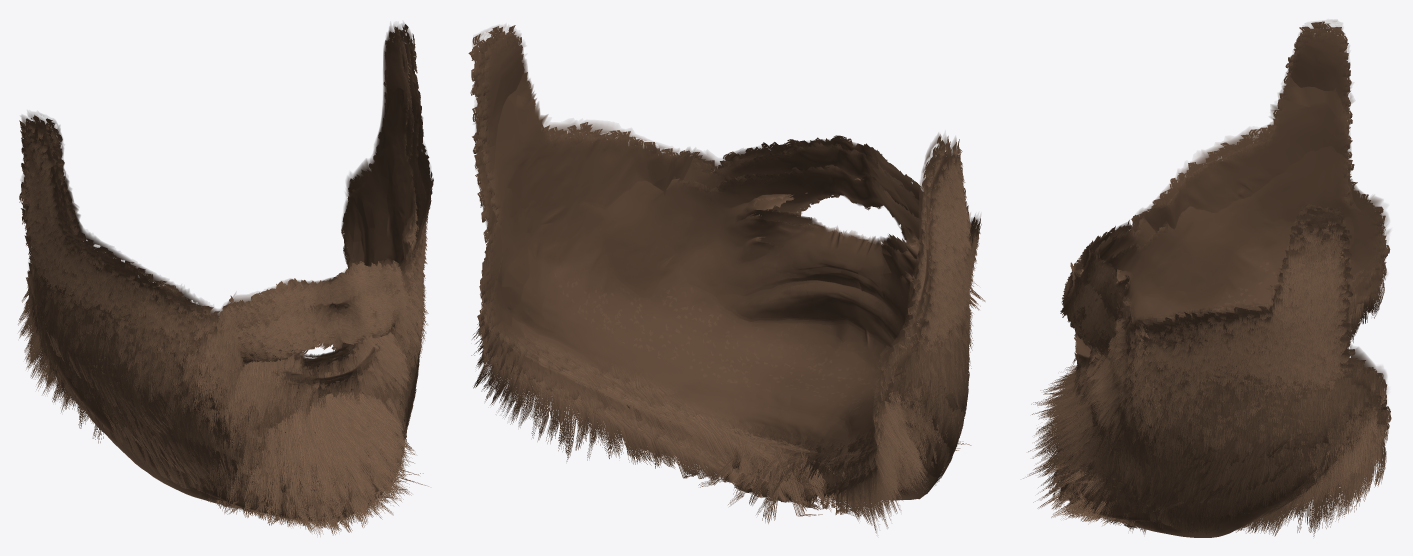
The model's file is beards-authored.glb.
3 views of the same model, side by side, from view 1: azimuth 30°, elevation 25°; view 2: azimuth 150°, elevation 25°; view 3: azimuth 270°, elevation 25° (orthographic). The views are drawn at different scales.
Visible parts, largest first — view 1: Beard_m4_tapered_cards, Beard_m4_full_cards, Beard_m3_full_cards, Beard_m2_tapered_cards, Beard_m2_full_cards, Beard_m3_tapered_cards, Beard_m2_boxed_root, Beard_m2_stubble_root, Beard_m4_boxed_cards, Beard_m1_tapered_cards, Beard_m4_goatee_cards, Beard_m3_boxed_cards (+15 smaller); view 2: Beard_m2_stubble_root, Beard_m2_boxed_root, Beard_m3_stubble_root, Beard_m1_stubble_root, Beard_m1_boxed_root, Beard_m3_full_cards, Beard_m3_boxed_root, Beard_m4_full_cards, Beard_m3_tapered_cards, Beard_m3_boxed_cards, Beard_m2_tapered_root, Beard_m1_full_cards (+20 smaller); view 3: Beard_m4_full_cards, Beard_m3_full_cards, Beard_m4_tapered_cards, Beard_m1_boxed_root, Beard_m1_stubble_root, Beard_m2_boxed_root, Beard_m2_full_cards, Beard_m2_stubble_root, Beard_m3_tapered_cards, Beard_m2_tapered_cards, Beard_m2_tapered_root, Beard_m3_boxed_cards (+18 smaller).
Boxes of the visible parts, x1,y1,x2,y2 form: Beard_m4_tapered_cards: (23,37,428,535); Beard_m4_full_cards: (24,27,427,513); Beard_m3_full_cards: (19,29,433,480); Beard_m2_tapered_cards: (29,34,424,501); Beard_m2_full_cards: (18,26,428,479); Beard_m3_tapered_cards: (21,24,433,508); Beard_m2_boxed_root: (63,46,413,350); Beard_m2_stubble_root: (72,54,412,348); Beard_m4_boxed_cards: (25,31,426,393); Beard_m1_tapered_cards: (32,32,419,536); Beard_m4_goatee_cards: (228,282,406,398); Beard_m3_boxed_cards: (19,30,432,371); Beard_m2_stubble_root: (491,96,918,434); Beard_m2_boxed_root: (481,47,945,438); Beard_m3_stubble_root: (511,147,951,440); Beard_m1_stubble_root: (490,40,919,375); Beard_m1_boxed_root: (487,36,936,452); Beard_m3_full_cards: (468,37,980,491); Beard_m3_boxed_root: (475,39,977,445); Beard_m4_full_cards: (472,30,972,533); Beard_m3_tapered_cards: (471,33,980,483); Beard_m3_boxed_cards: (471,26,981,454); Beard_m2_tapered_root: (481,43,945,396); Beard_m1_full_cards: (482,35,947,511); Beard_m4_full_cards: (1047,35,1388,536); Beard_m3_full_cards: (1092,22,1386,500); Beard_m4_tapered_cards: (1023,29,1389,521); Beard_m1_boxed_root: (1106,32,1382,315); Beard_m1_stubble_root: (1108,39,1379,318); Beard_m2_boxed_root: (1091,71,1385,372); Beard_m2_full_cards: (1057,30,1388,507); Beard_m2_stubble_root: (1091,88,1379,315); Beard_m3_tapered_cards: (1032,21,1391,496); Beard_m2_tapered_cards: (1028,24,1390,484); Beard_m2_tapered_root: (1090,62,1382,372); Beard_m3_boxed_cards: (1093,27,1388,406).
Bounding box in the file's own units: 0.1613 × 0.1549 × 0.1319.
Materials: 2 (1 with a texture image).
